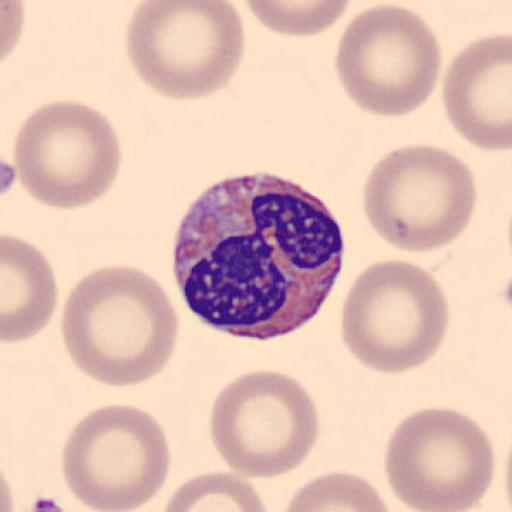RBC: (62, 263, 181, 389), (360, 142, 478, 256), (339, 258, 452, 375), (11, 98, 124, 211), (333, 2, 442, 119), (208, 369, 322, 480), (123, 1, 247, 102), (382, 405, 496, 512), (60, 402, 170, 512), (442, 30, 512, 152), (2, 234, 58, 344), (281, 468, 395, 512), (160, 468, 272, 512), (241, 0, 354, 39), (0, 0, 27, 65)
WBC: (168, 171, 347, 342)
